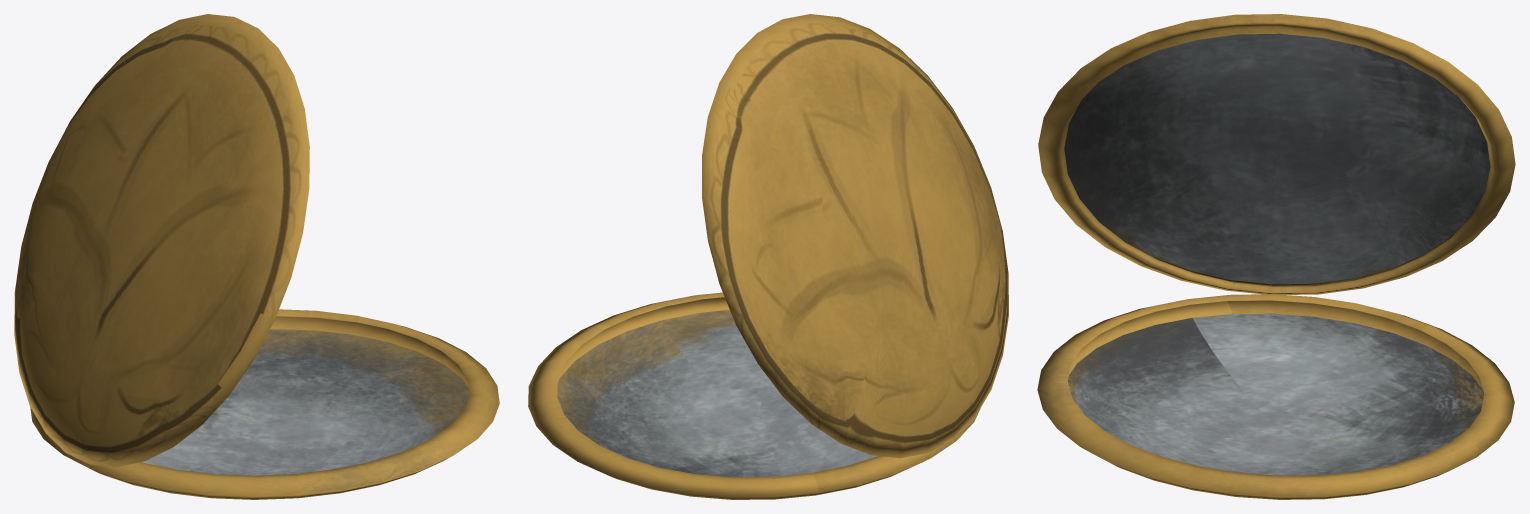
File: mirrorOpen1.fbx
The picture shows the model from 3 angles, left to right: view 1: azimuth 30°, elevation 25°; view 2: azimuth 150°, elevation 25°; view 3: azimuth 270°, elevation 25°; orthographic projection. The views are drawn at different scales.
Parts seen in each view (by area): view 1: Sphere.032, Sphere.033; view 2: Sphere.032, Sphere.033; view 3: Sphere.033, Sphere.032.
Part boxes in pixels (<box>): Sphere.032: <box>14,14,499,499</box>; Sphere.033: <box>142,329,469,475</box>; Sphere.032: <box>528,14,1008,499</box>; Sphere.033: <box>557,309,877,477</box>; Sphere.033: <box>1064,33,1490,475</box>; Sphere.032: <box>1037,14,1515,499</box>.
Bounding box in the file's own units: 15.61 × 15.12 × 15.62.
